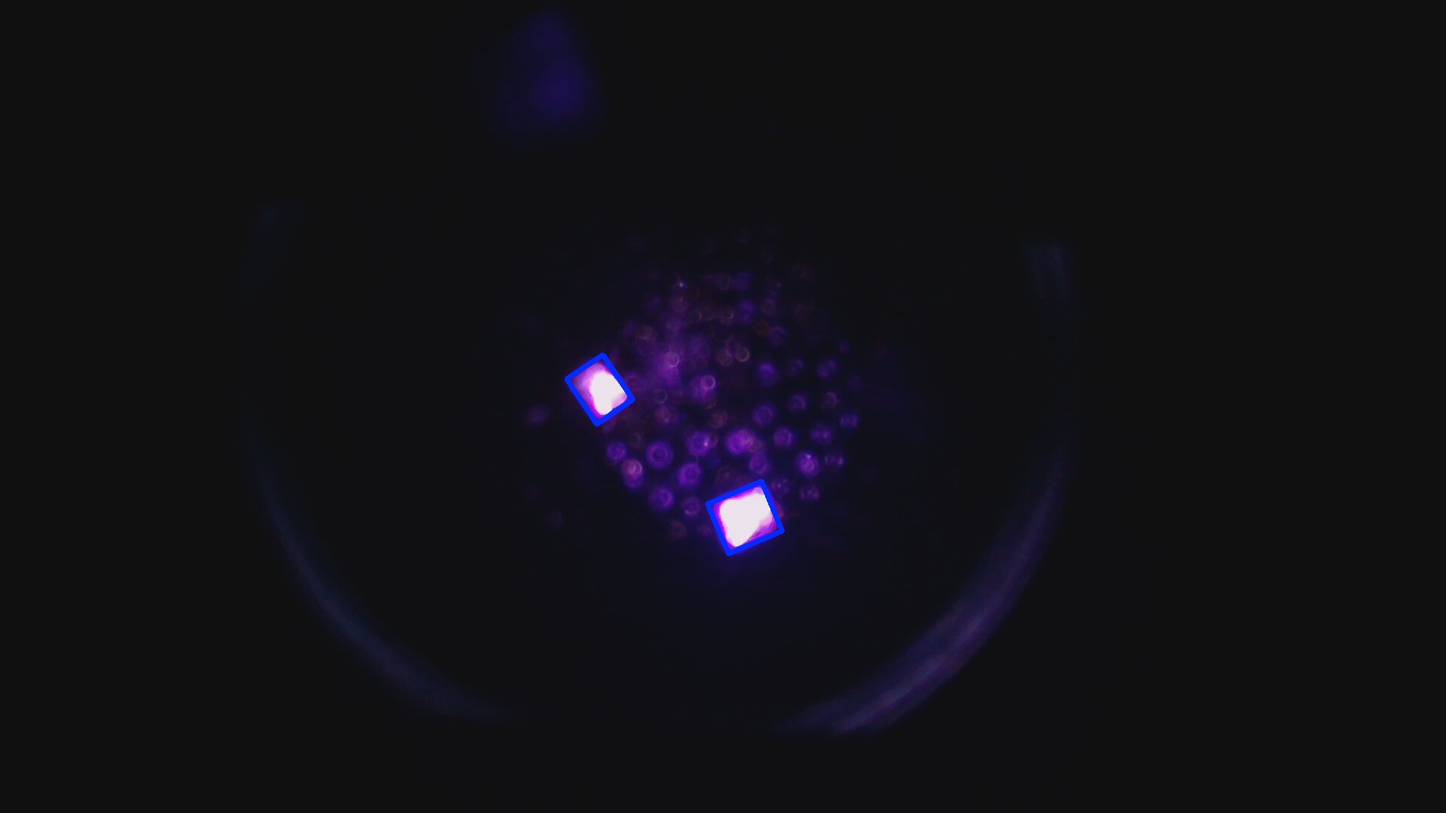plastic: (707, 481, 783, 554), (567, 355, 633, 424)
